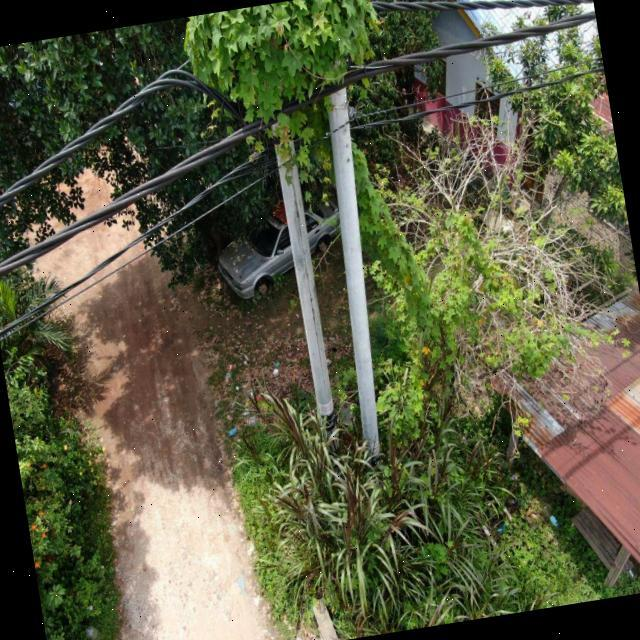critical vegetation: (308, 125, 465, 370), (180, 10, 397, 144)
